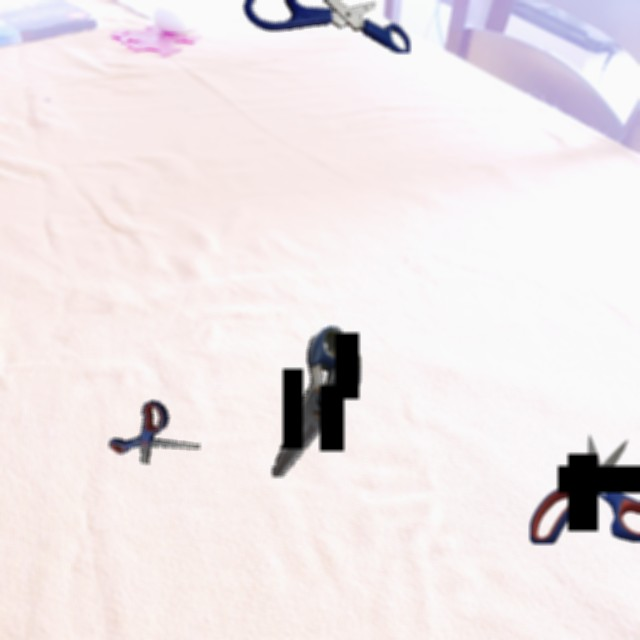scissors: (272, 326, 361, 477), (530, 435, 640, 544), (243, 0, 410, 53), (109, 400, 200, 464)
